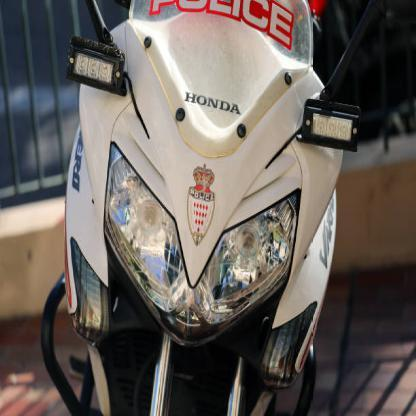Motorcycle: (39, 0, 364, 415)
